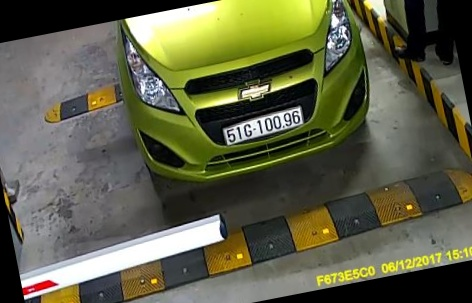plate: (217, 109, 319, 151)
